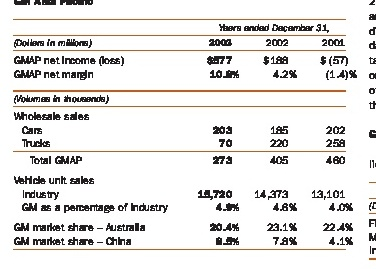table: (0, 0, 376, 269)
